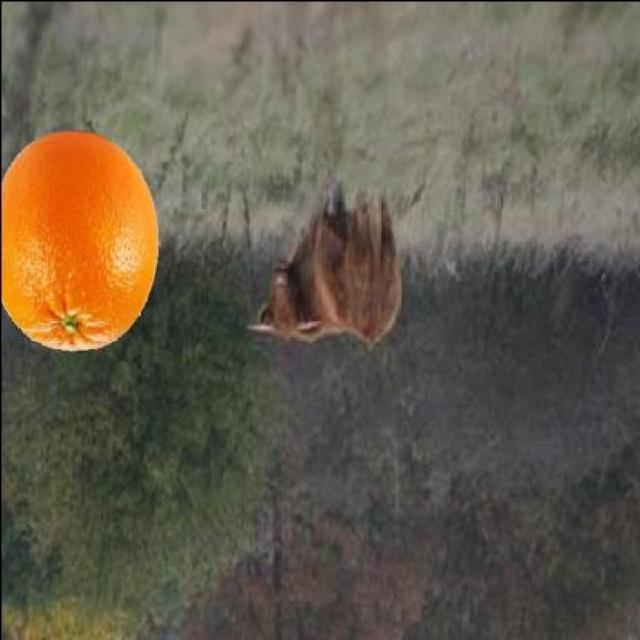Orange: (0, 128, 160, 352)
